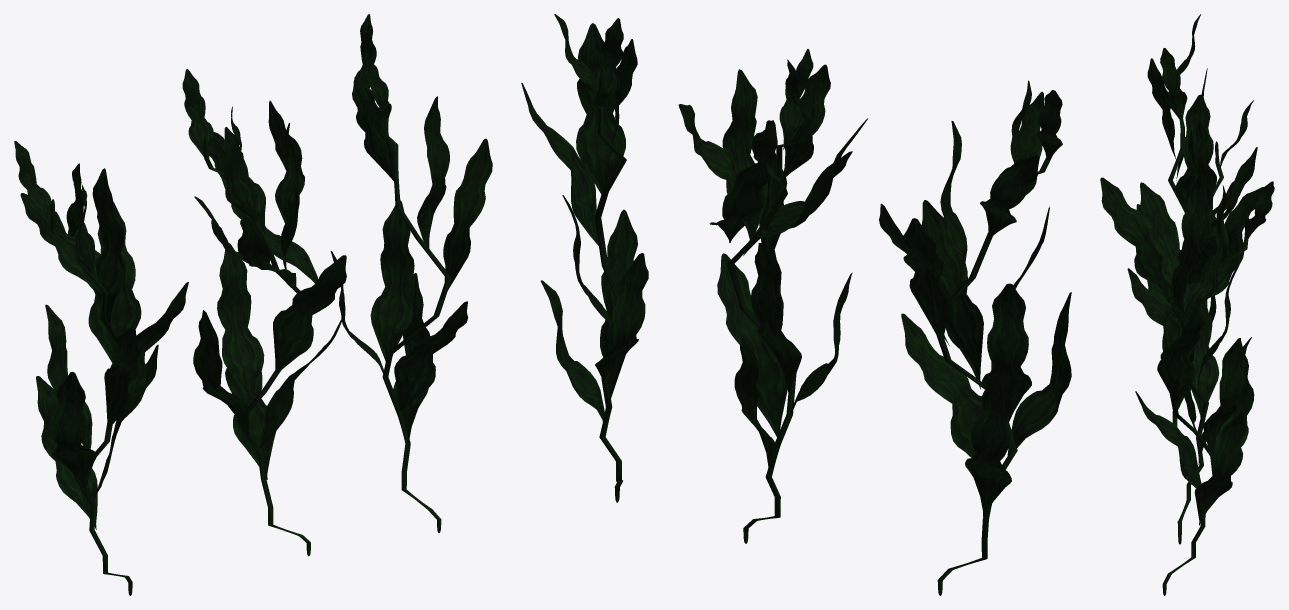
The model's file is claretAssetBaseSeaweed_edit_for_FBX.fbx.
3 renders of one model, left to right at view 1: azimuth 30°, elevation 25°; view 2: azimuth 150°, elevation 25°; view 3: azimuth 270°, elevation 25°, orthographic. The views are drawn at different scales.
Visible parts, largest first — view 1: seaweed02, seaweed01, seaweed03; view 2: seaweed01, seaweed02, seaweed03; view 3: seaweed02, seaweed03, seaweed01.
Boxes of the visible parts, <box> form: seaweed02: <box>182,69,346,556</box>; seaweed01: <box>14,141,188,595</box>; seaweed03: <box>330,14,492,532</box>; seaweed01: <box>879,80,1071,595</box>; seaweed02: <box>678,49,867,543</box>; seaweed03: <box>521,14,648,502</box>; seaweed02: <box>1127,100,1263,544</box>; seaweed03: <box>1135,181,1274,595</box>; seaweed01: <box>1100,14,1257,426</box>.
Size of the model in its own units: 208 by 200 by 76.74.
